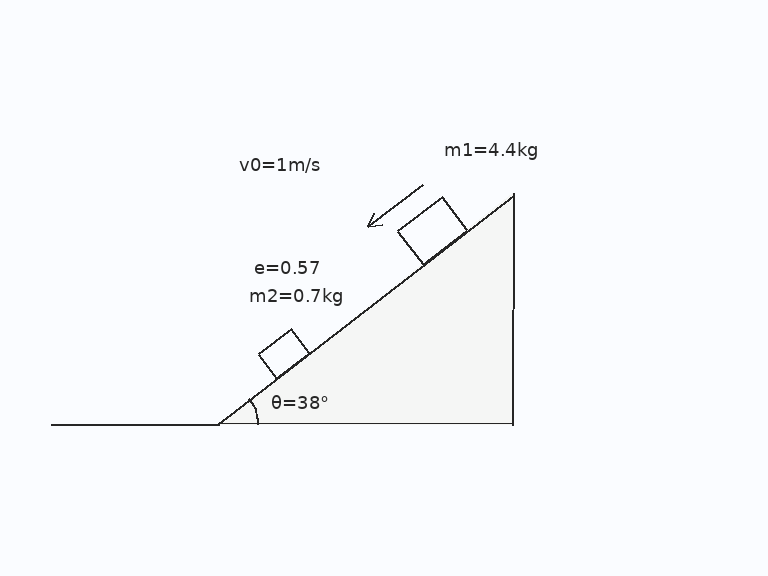block: (396, 195, 469, 266), (256, 326, 311, 380)
ramp: (216, 192, 515, 426)
